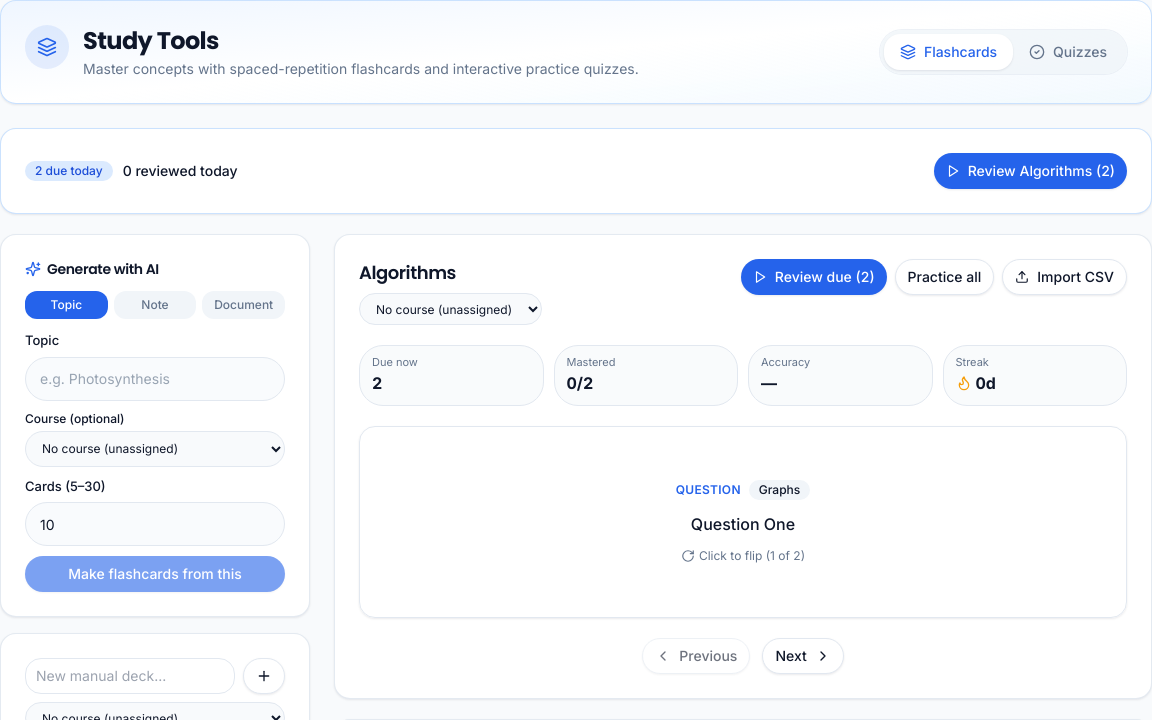
Test: Flashcards SM-2 & Spaced Repetition UI › reviews due flashcards with flip, keyboard shortcuts, and SM-2 rating submission
Expected: the heading "Algorithms" is shown, [359, 259, 456, 287]
Click the button "Review due (2)" at (814, 277), box [741, 259, 887, 295]
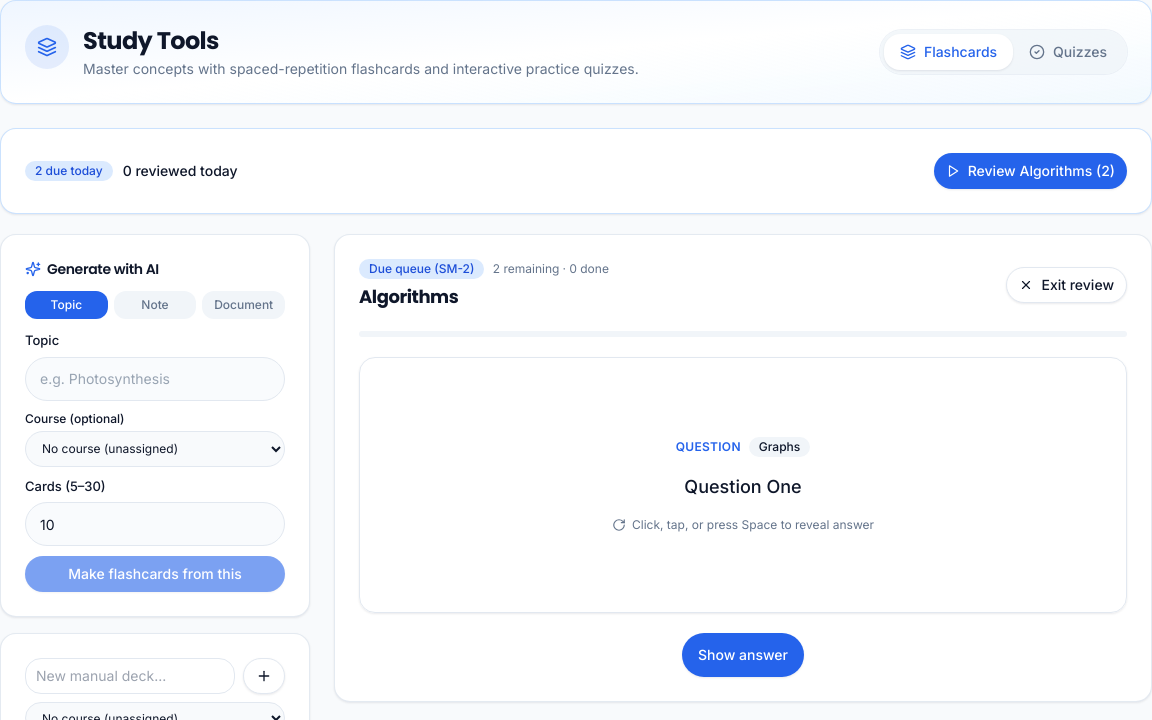
Expected: the text "Question One" is shown, [684, 473, 802, 501]
Click the button with aria-label "Reveal answer side" at (743, 485), box [359, 357, 1127, 613]
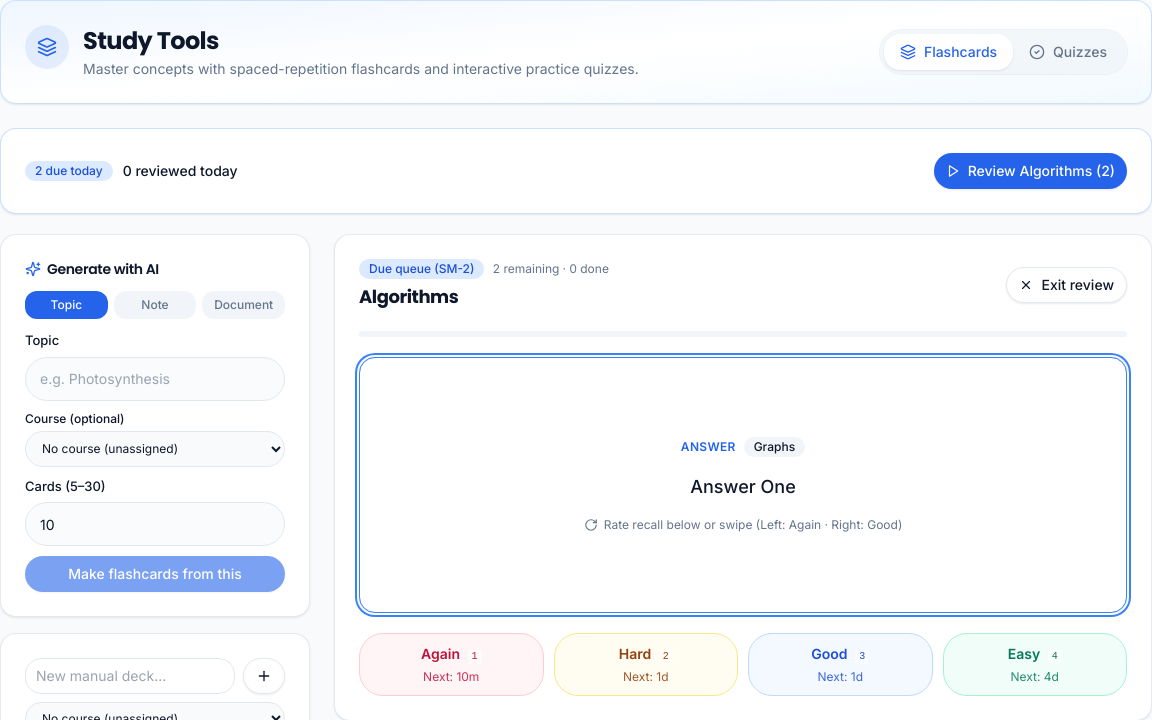
Result: the text "Answer One" is shown at [690, 473, 796, 501]
Result: the text "Next: 10m" is shown at [423, 669, 479, 685]
Click the button "Good 3 Next: 1d" at (840, 664), box [748, 633, 932, 696]
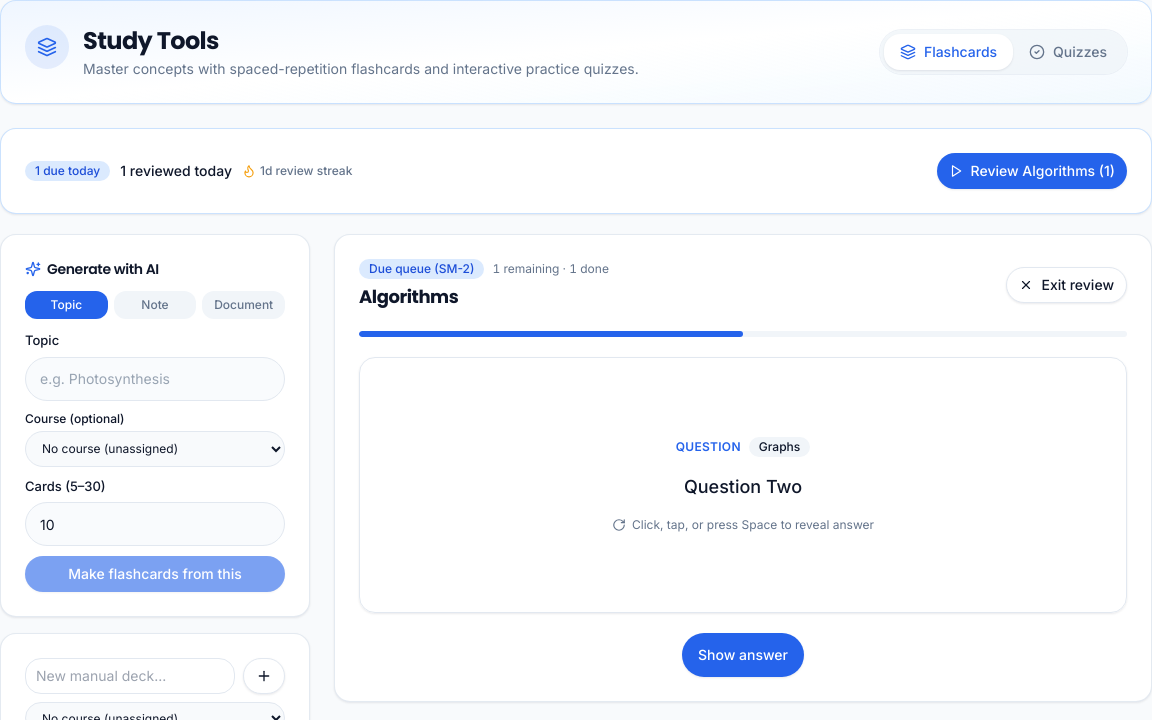
Result: the text "Question Two" is shown at [684, 473, 802, 501]
Flip with Space key and rate Easy with "4"
Press Space
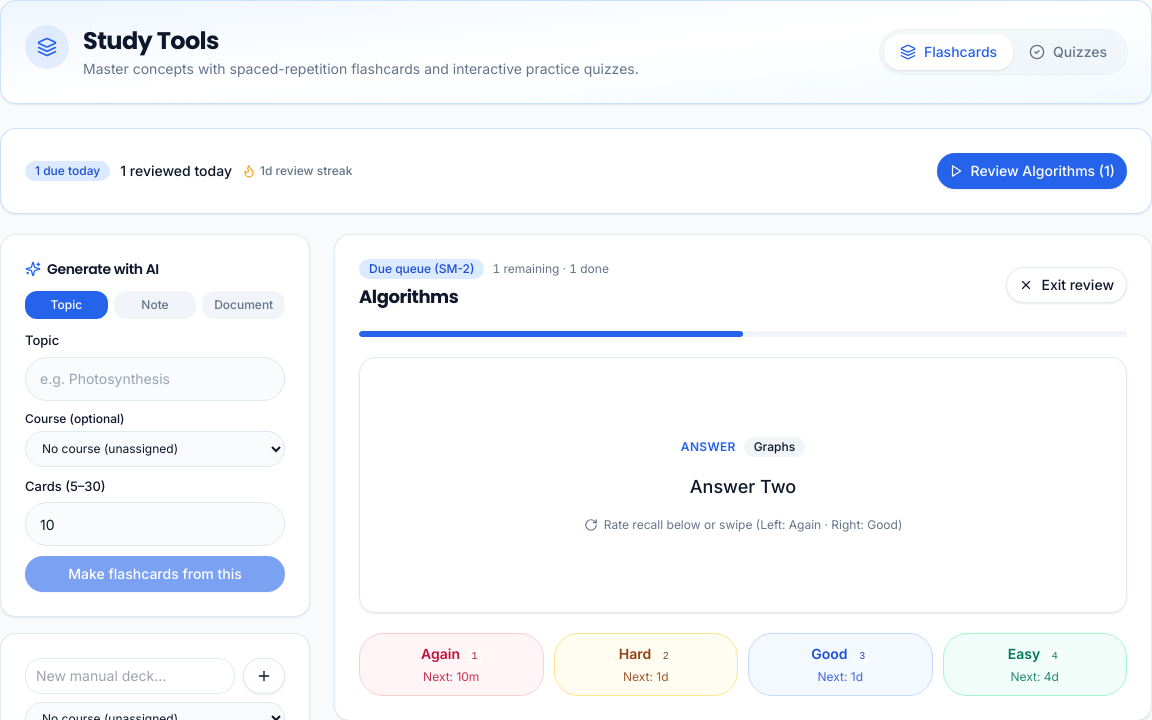
Result: the text "Answer Two" is shown at [690, 473, 796, 501]
Press 4
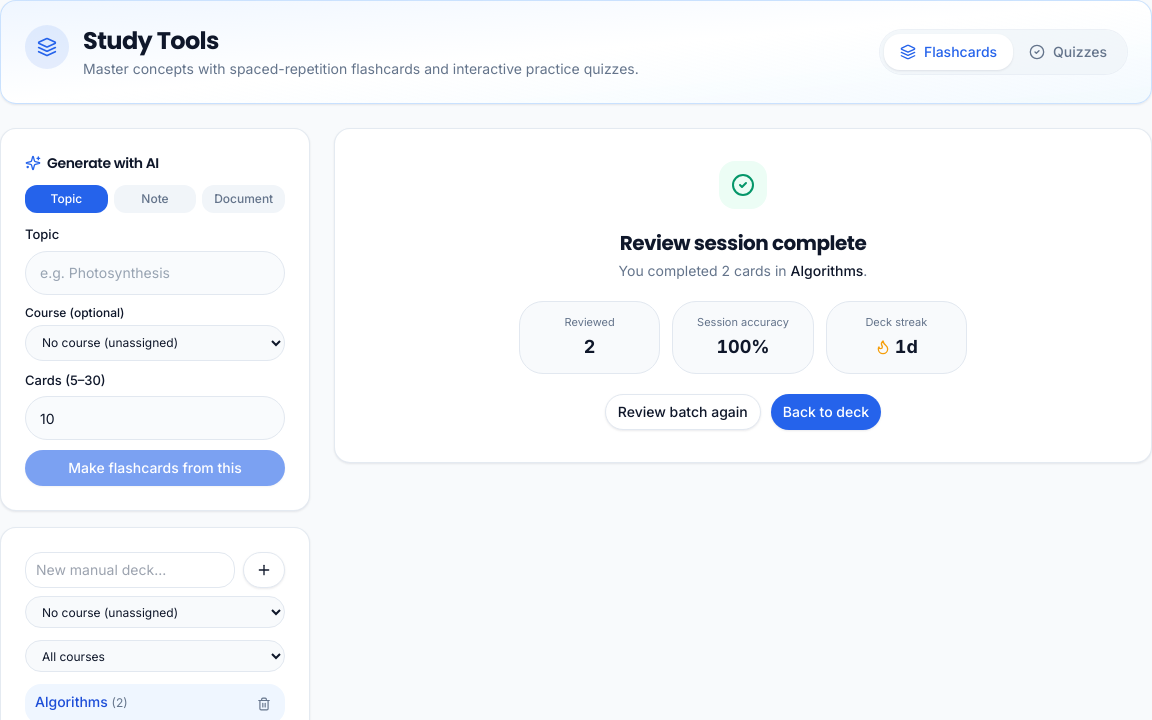
Result: the heading "Review session complete" is shown at [620, 229, 866, 257]
